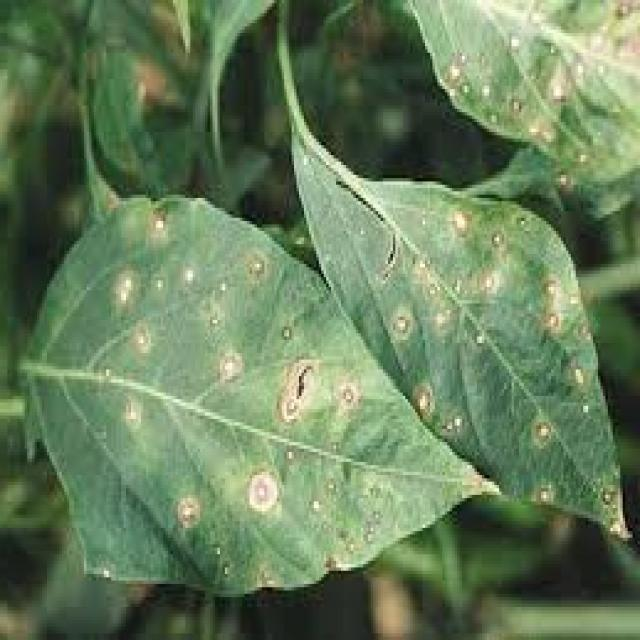bercak_daun: (18, 201, 480, 581), (292, 142, 638, 554)
